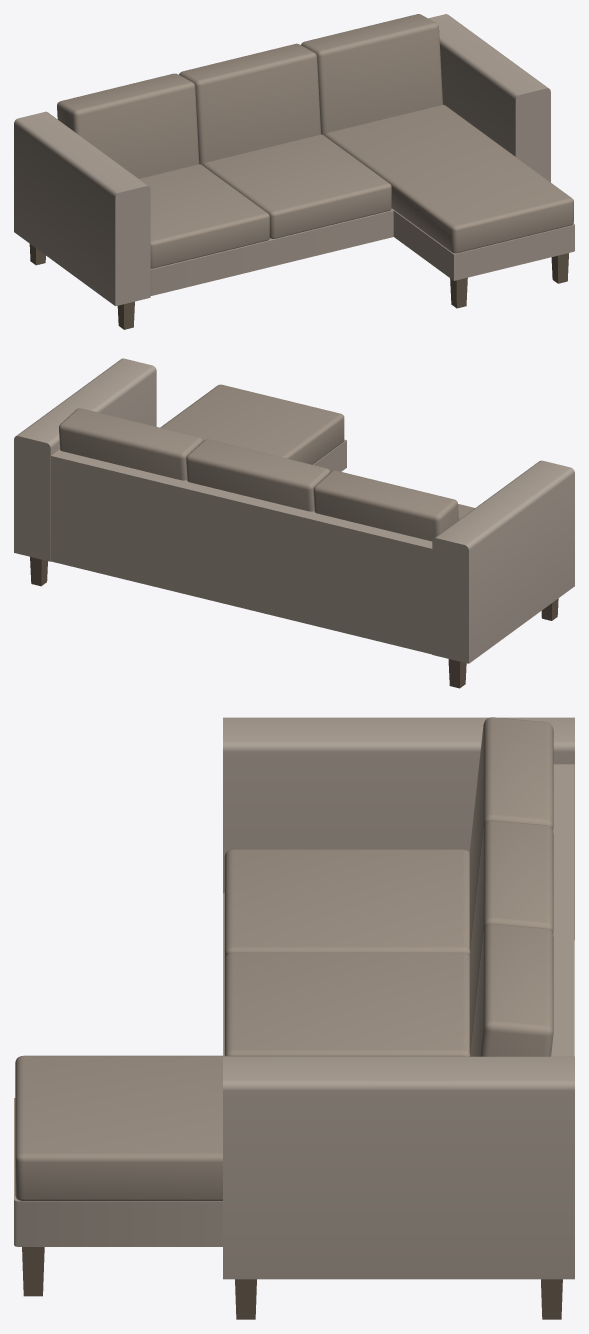
File: Sofa7_C2.fbx
The picture shows the model from 3 angles, top to bottom: view 1: azimuth 30°, elevation 25°; view 2: azimuth 150°, elevation 25°; view 3: azimuth 270°, elevation 25°; orthographic projection. The views are drawn at different scales.
Parts seen in each view (by area): view 1: Sofa7_C2; view 2: Sofa7_C2; view 3: Sofa7_C2.
Part boxes in pixels (x1,y1,x2,y2): Sofa7_C2: (14,14,574,329); Sofa7_C2: (14,358,574,688); Sofa7_C2: (14,717,574,1319).
Size of the model in its own units: 248 by 86.76 by 159.
